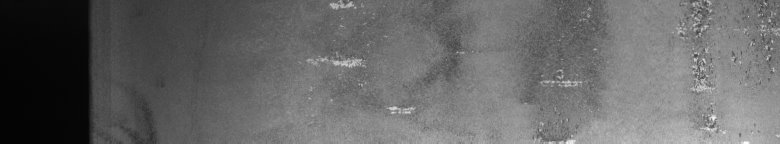hc: (678, 4, 776, 133)
